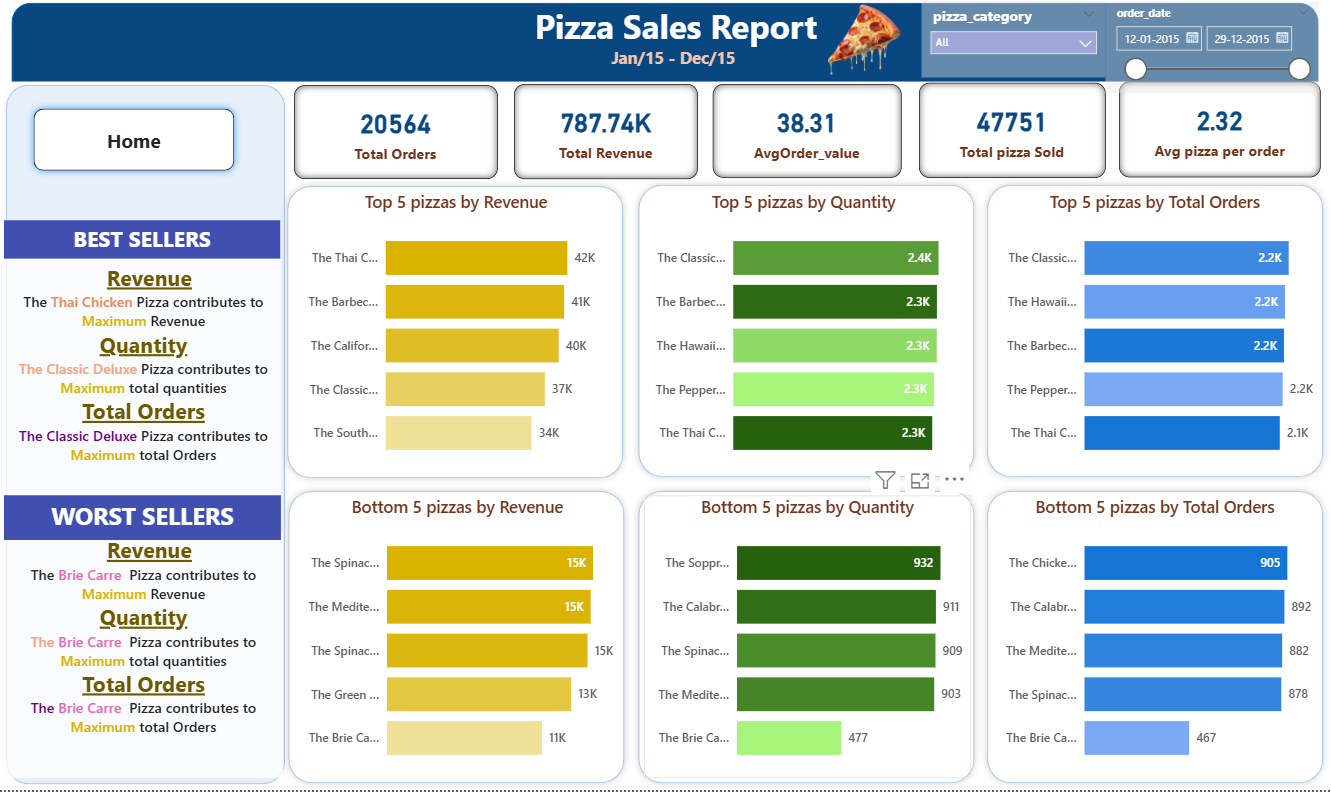

The dashboard page shown, as its layout file describes it:
{"tool":"powerbi","page":{"name":"Best/Worst Sales","canvas":[1500,892],"ordinal":1},"visuals":[{"type":"shape","box":[14.5,3.6,1472.7,89.1],"z":0},{"type":"card","fields":{"Values":["pizza_sales.Total Orders"]},"box":[331.9,96.6,229.3,105.5],"z":0,"group":"g1"},{"type":"textbox","box":[490.1,0,545.1,60.6],"z":1000},{"type":"card","fields":{"Values":["pizza_sales.Total Revenue"]},"box":[579.2,96,207.5,106.9],"z":1000,"group":"g1"},{"type":"textbox","box":[539.4,47.9,440.8,40.8],"z":2000},{"type":"card","fields":{"Values":["pizza_sales.AvgOrder_value"]},"box":[804.3,96,212.7,105.6],"z":2000,"group":"g1"},{"type":"image","box":[859.2,2.8,232.4,88.7],"z":3000},{"type":"card","fields":{"Values":["pizza_sales.Total pizza Sold"]},"box":[1036.4,94.6,210.1,107.2],"z":3000,"group":"g1"},{"type":"card","fields":{"Values":["pizza_sales.Avg pizza per order"]},"box":[1262.1,92.8,227.5,108.2],"z":4000,"group":"g1"},{"type":"shape","box":[317.4,202.9,394.2,344.9],"z":4000},{"type":"group","id":"g1","title":"Group 1","box":[331.9,92.8,1157.8,110.1],"z":5000},{"type":"shape","box":[0,88.2,330.3,803.9],"z":6000},{"type":"textbox","box":[5.8,249.3,311.6,43.5],"z":7000},{"type":"textbox","box":[7.2,292.8,311.6,266.7],"z":8000},{"type":"textbox","box":[5.3,600,314.5,277.6],"z":9000},{"type":"textbox","box":[5.3,559.2,311.8,50],"z":10000},{"type":"slicer","fields":{"Values":["pizza_sales.pizza_category"]},"box":[1039.1,2.9,207.2,85.5],"z":11000},{"type":"slicer","fields":{"Values":["pizza_sales.order_date"]},"box":[1245.9,3.3,241,103.3],"z":12000},{"type":"shape","box":[713,201.4,394.2,344.9],"z":13000},{"type":"shape","box":[1105.8,201.4,394.2,344.9],"z":14000},{"type":"shape","box":[713,546.4,394.2,344.9],"z":15000},{"type":"shape","box":[318.8,546.4,394.2,344.9],"z":16000},{"type":"shape","box":[1105.8,546.4,394.2,344.9],"z":17000},{"type":"barChart","title":"Top 5  pizzas by Revenue","fields":{"Y":["pizza_sales.Total Revenue"],"Category":["pizza_sales.pizza_name"]},"box":[330.4,215.9,368.1,318.8],"z":18000},{"type":"barChart","title":" Bottom 5 pizzas by Revenue","fields":{"Y":["pizza_sales.Total Revenue"],"Category":["pizza_sales.pizza_name"]},"box":[331.9,559.4,368.1,318.8],"z":19000},{"type":"barChart","title":"Top 5  pizzas by Quantity","fields":{"Category":["pizza_sales.pizza_name"],"Y":["pizza_sales.Total pizza Sold"]},"box":[723.2,215.9,368.1,318.8],"z":20000},{"type":"barChart","title":" Bottom 5 pizzas by Quantity","fields":{"Category":["pizza_sales.pizza_name"],"Y":["pizza_sales.Total pizza Sold"]},"box":[726.1,559.4,368.1,318.8],"z":21000},{"type":"barChart","title":"Top 5  pizzas by Total Orders","fields":{"Category":["pizza_sales.pizza_name"],"Y":["pizza_sales.Total Orders"]},"box":[1118.8,215.9,368.1,318.8],"z":22000},{"type":"barChart","title":"Bottom 5 pizzas by Total Orders","fields":{"Category":["pizza_sales.pizza_name"],"Y":["pizza_sales.Total Orders"]},"box":[1118.8,559.4,368.1,318.8],"z":23000},{"type":"pageNavigator","box":[31.6,115.8,242.1,86.8],"z":24000}]}

Visuals, with their boxes in screenshot pixels (x1, y1, x2, y2), scaled from the page's 1500x892 canvas onto the 1331x792 screenshot:
shape: pyautogui.locateOnScreen(13, 3, 1320, 82)
card - pizza_sales.Total Orders: pyautogui.locateOnScreen(295, 86, 498, 179)
textbox: pyautogui.locateOnScreen(435, 0, 919, 54)
card - pizza_sales.Total Revenue: pyautogui.locateOnScreen(514, 85, 698, 180)
textbox: pyautogui.locateOnScreen(479, 43, 870, 79)
card - pizza_sales.AvgOrder_value: pyautogui.locateOnScreen(714, 85, 902, 179)
image: pyautogui.locateOnScreen(762, 2, 969, 81)
card - pizza_sales.Total pizza Sold: pyautogui.locateOnScreen(920, 84, 1106, 179)
card - pizza_sales.Avg pizza per order: pyautogui.locateOnScreen(1120, 82, 1322, 178)
shape: pyautogui.locateOnScreen(282, 180, 631, 486)
"Group 1" group: pyautogui.locateOnScreen(295, 82, 1322, 180)
shape: pyautogui.locateOnScreen(0, 78, 293, 791)
textbox: pyautogui.locateOnScreen(5, 221, 282, 260)
textbox: pyautogui.locateOnScreen(6, 260, 283, 497)
textbox: pyautogui.locateOnScreen(5, 533, 284, 779)
textbox: pyautogui.locateOnScreen(5, 497, 281, 541)
slicer - pizza_sales.pizza_category: pyautogui.locateOnScreen(922, 3, 1106, 78)
slicer - pizza_sales.order_date: pyautogui.locateOnScreen(1106, 3, 1319, 95)
shape: pyautogui.locateOnScreen(633, 179, 982, 485)
shape: pyautogui.locateOnScreen(981, 179, 1330, 485)
shape: pyautogui.locateOnScreen(633, 485, 982, 791)
shape: pyautogui.locateOnScreen(283, 485, 633, 791)
shape: pyautogui.locateOnScreen(981, 485, 1330, 791)
"Top 5  pizzas by Revenue" barChart: pyautogui.locateOnScreen(293, 192, 620, 475)
" Bottom 5 pizzas by Revenue" barChart: pyautogui.locateOnScreen(295, 497, 621, 780)
"Top 5  pizzas by Quantity" barChart: pyautogui.locateOnScreen(642, 192, 968, 475)
" Bottom 5 pizzas by Quantity" barChart: pyautogui.locateOnScreen(644, 497, 971, 780)
"Top 5  pizzas by Total Orders" barChart: pyautogui.locateOnScreen(993, 192, 1319, 475)
"Bottom 5 pizzas by Total Orders" barChart: pyautogui.locateOnScreen(993, 497, 1319, 780)
pageNavigator: pyautogui.locateOnScreen(28, 103, 243, 180)
